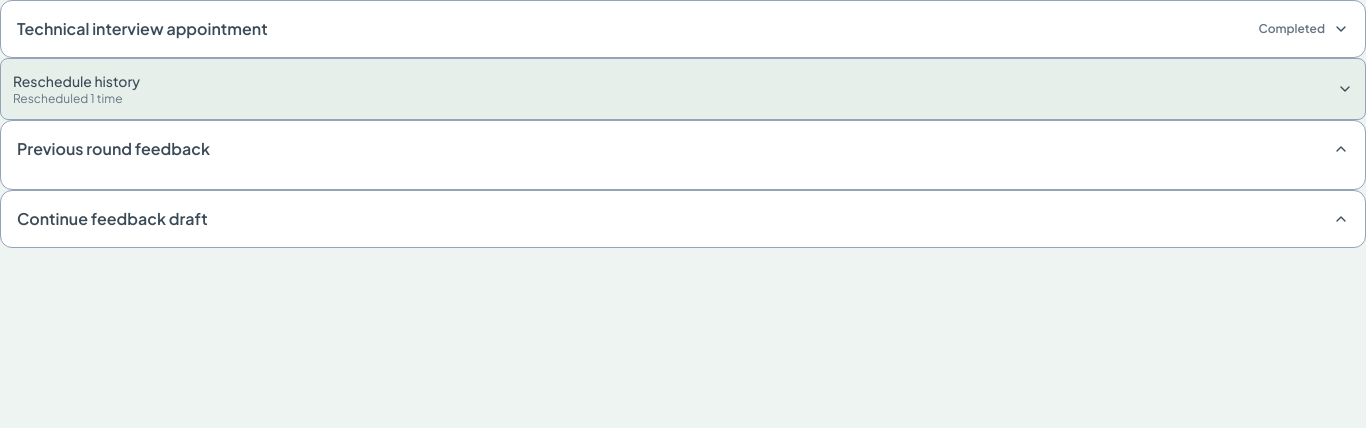
Test case: appointment feedback flow › retains older reschedule records and excludes changes for other rounds
Click the text "Rescheduled 1 time" at (77, 99), box [13,91,140,107]
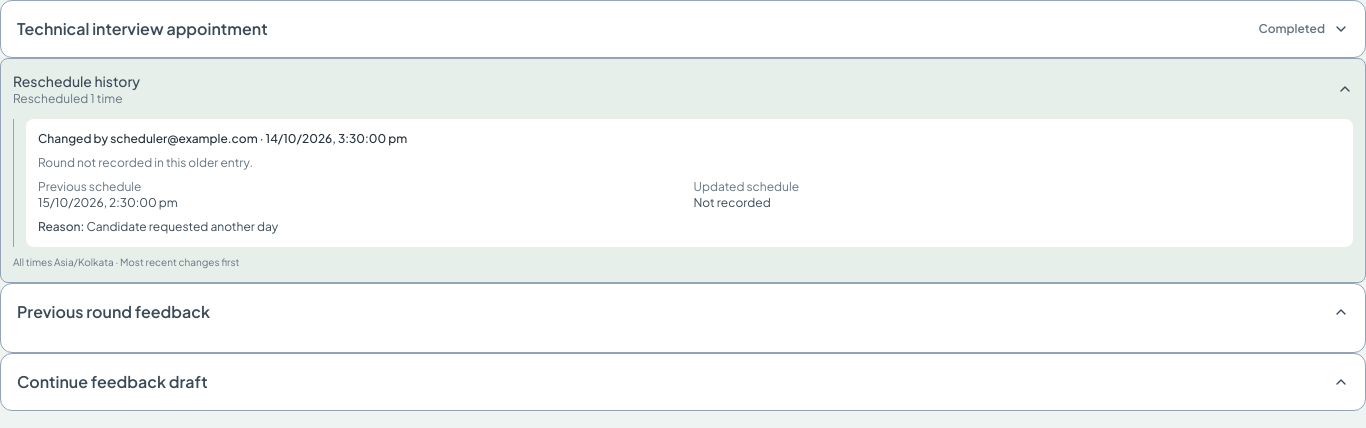
Check: the text "Round not recorded in this older entry." is shown, box [38,155,253,170]
Check: the text "Reason: Candidate requested another day" is shown, box [38,219,278,234]
Check: the text "Changed by scheduler@example.com · 14/10/2026, 3:30:00 pm" is shown, box [38,131,407,146]
